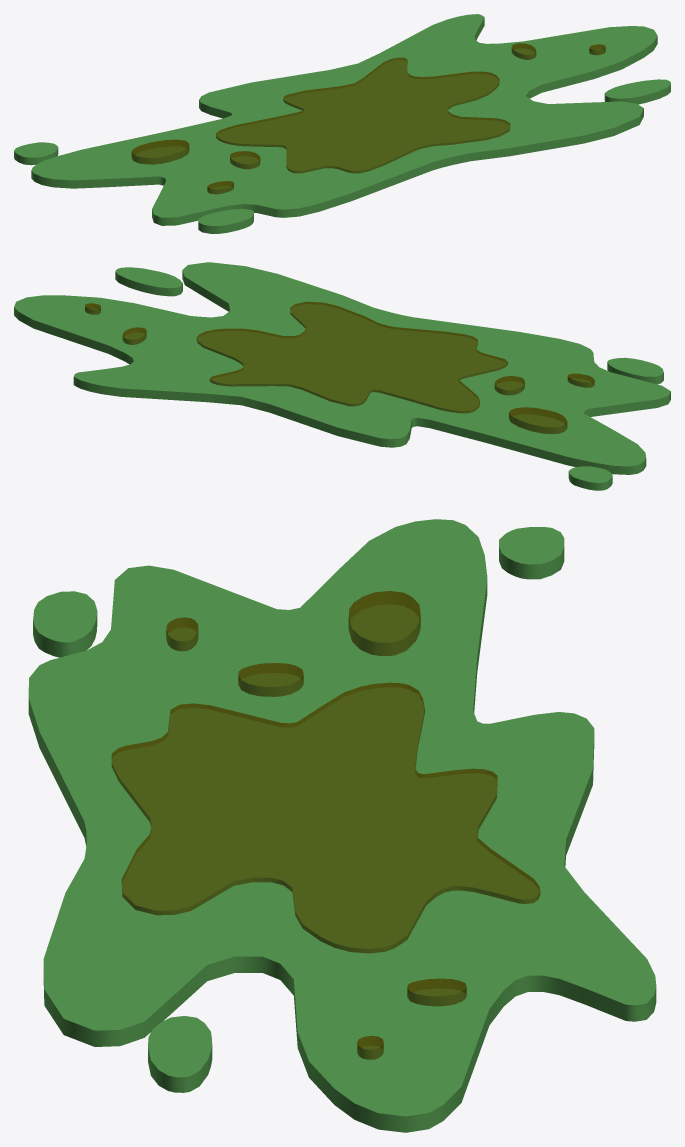
The model's file is Goop.fbx.
3 renders of one model, top to bottom at view 1: azimuth 30°, elevation 25°; view 2: azimuth 150°, elevation 25°; view 3: azimuth 270°, elevation 25°, orthographic. The views are drawn at different scales.
Visible parts, largest first — view 1: pCylinder1, pCylinder5, pCylinder2, pCylinder10, pCylinder3, pCylinder4, pCylinder9, pCylinder6; view 2: pCylinder1, pCylinder5, pCylinder2, pCylinder10, pCylinder3, pCylinder4, pCylinder9, pCylinder6; view 3: pCylinder1, pCylinder5, pCylinder2, pCylinder10, pCylinder3, pCylinder4, pCylinder9, pCylinder6, pCylinder8.
Boxes of the visible parts, bbox=[...] form: pCylinder1: bbox=[31, 14, 657, 225]; pCylinder5: bbox=[216, 57, 510, 173]; pCylinder2: bbox=[604, 79, 670, 104]; pCylinder10: bbox=[131, 139, 189, 164]; pCylinder3: bbox=[198, 209, 253, 233]; pCylinder4: bbox=[14, 142, 58, 165]; pCylinder9: bbox=[230, 151, 260, 169]; pCylinder6: bbox=[511, 43, 536, 59]; pCylinder1: bbox=[14, 262, 670, 474]; pCylinder5: bbox=[196, 301, 507, 413]; pCylinder2: bbox=[115, 267, 182, 296]; pCylinder10: bbox=[509, 407, 567, 434]; pCylinder3: bbox=[607, 357, 663, 384]; pCylinder4: bbox=[568, 466, 612, 490]; pCylinder9: bbox=[494, 376, 524, 395]; pCylinder6: bbox=[122, 327, 146, 344]; pCylinder1: bbox=[28, 519, 656, 1132]; pCylinder5: bbox=[111, 682, 540, 953]; pCylinder2: bbox=[148, 1016, 212, 1092]; pCylinder10: bbox=[348, 591, 420, 655]; pCylinder3: bbox=[33, 591, 97, 657]; pCylinder4: bbox=[499, 527, 564, 579]; pCylinder9: bbox=[238, 663, 303, 696]; pCylinder6: bbox=[407, 978, 466, 1006]; pCylinder8: bbox=[166, 617, 198, 651].
Size of the model in its own units: 1.94 by 0.0448 by 0.8598.
